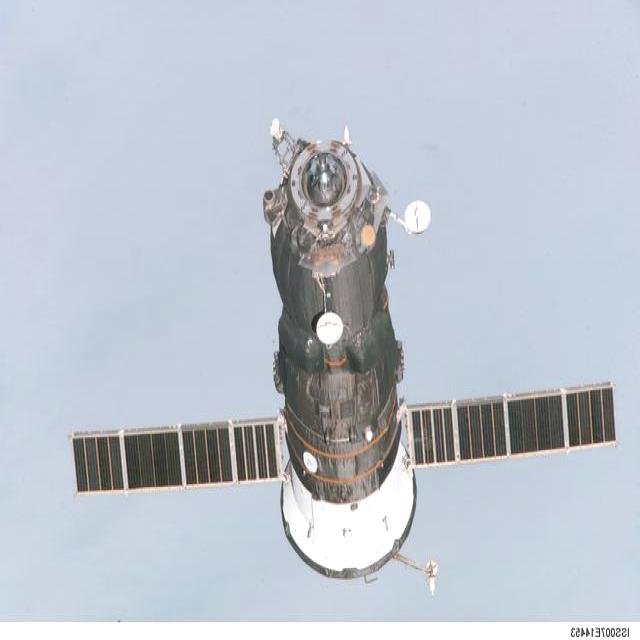medium_debris: (71, 120, 616, 591)
